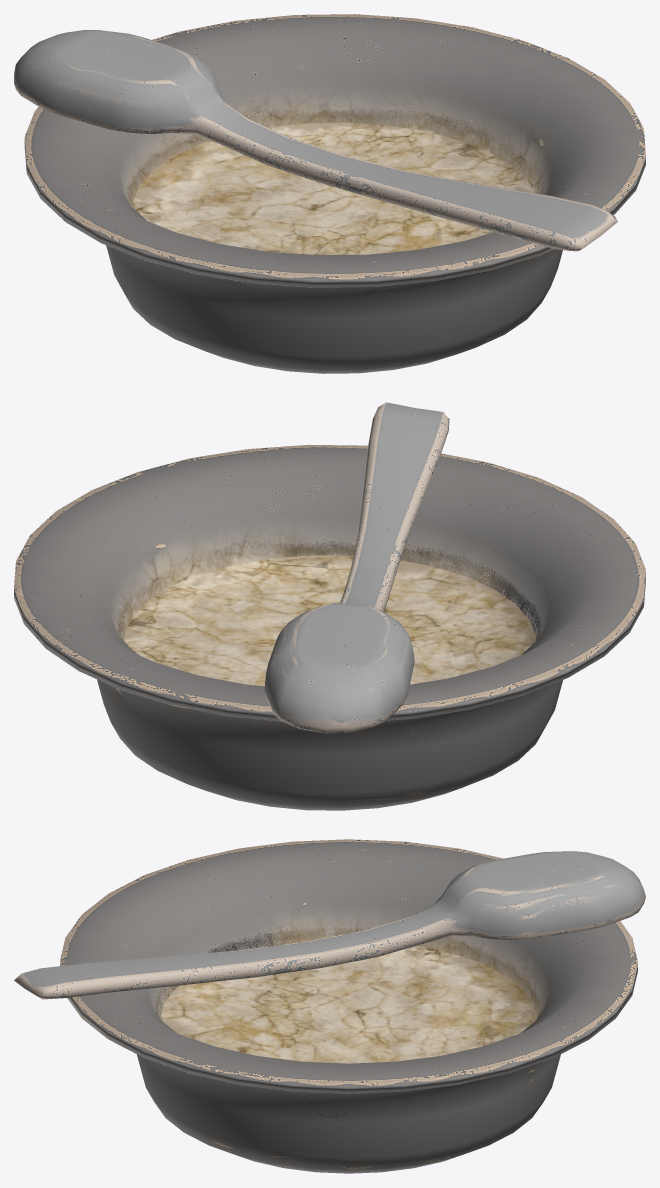
File: balanda_russian_prison_food.glb
3 views of the same model, one above another, from view 1: azimuth 30°, elevation 25°; view 2: azimuth 150°, elevation 25°; view 3: azimuth 270°, elevation 25° (orthographic). The views are drawn at different scales.
Parts seen in each view (by area): view 1: Object_2; view 2: Object_2; view 3: Object_2.
Boxes of the visible parts, x1,y1,x2,y2 form: Object_2: [14, 14, 645, 373]; Object_2: [14, 402, 645, 810]; Object_2: [14, 839, 645, 1173].
Size of the model in its own units: 12.17 by 4.22 by 13.31.
Materials: 1 (1 with a texture image).
